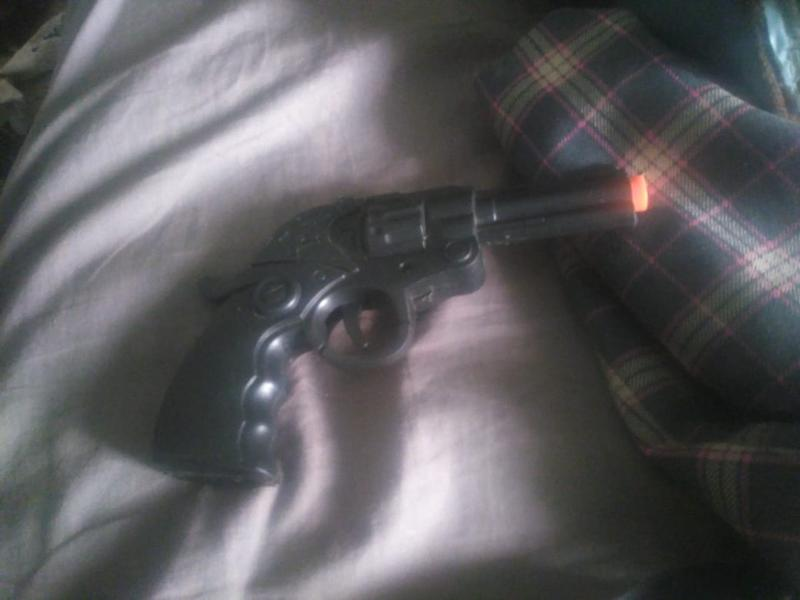gun: (138, 162, 687, 479)
